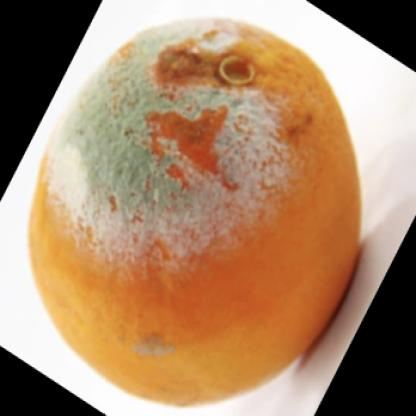rotten: (27, 16, 362, 403)
